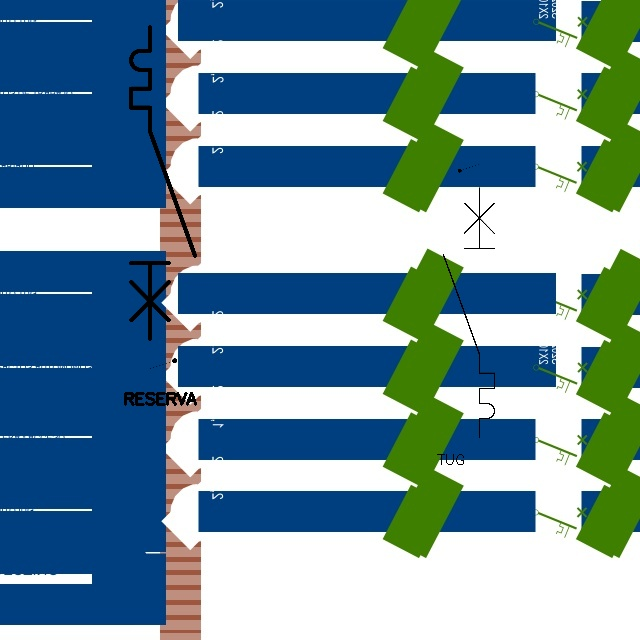interruptor_termomagnetico: (123, 19, 203, 347), (437, 181, 501, 443)
